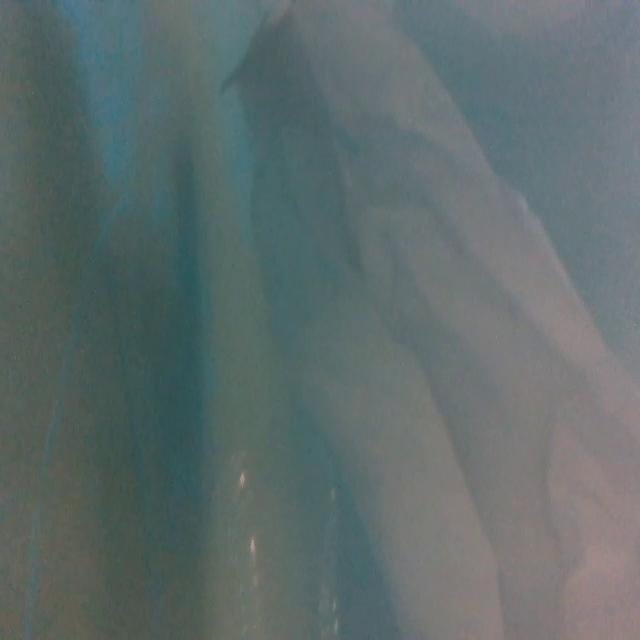plastic bags: (219, 2, 640, 640)
